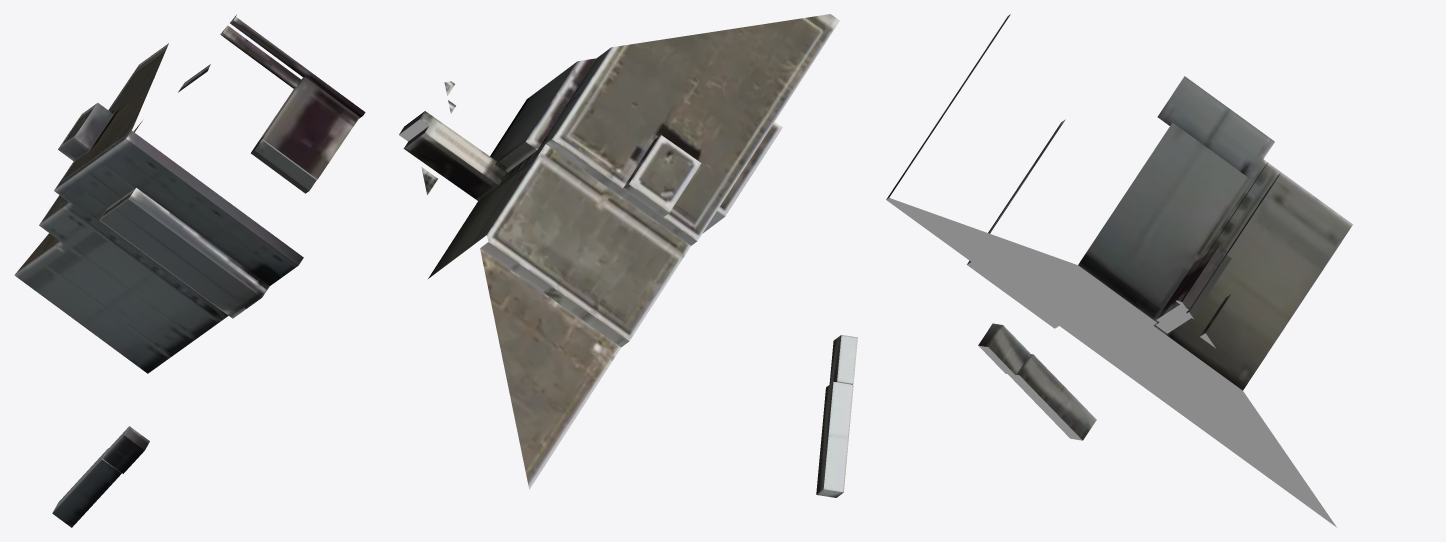
The model's file is 39538_bldg_Building.glb.
3 renders of one model, left to right at view 1: azimuth 30°, elevation 25°; view 2: azimuth 150°, elevation 25°; view 3: azimuth 270°, elevation 25°, orthographic. The views are drawn at different scales.
Size of the model in its own units: 51.46 by 55.91 by 62.59.
2 materials, 1 textured.
